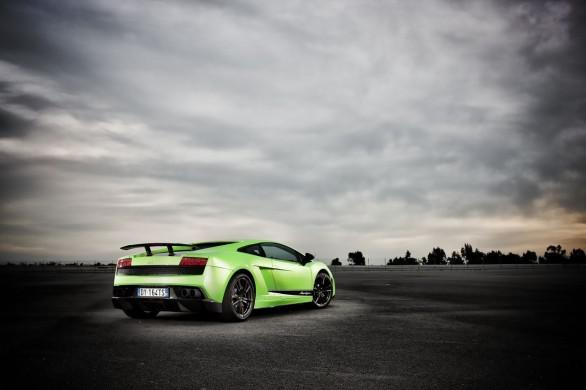Car: (96, 222, 354, 331)
